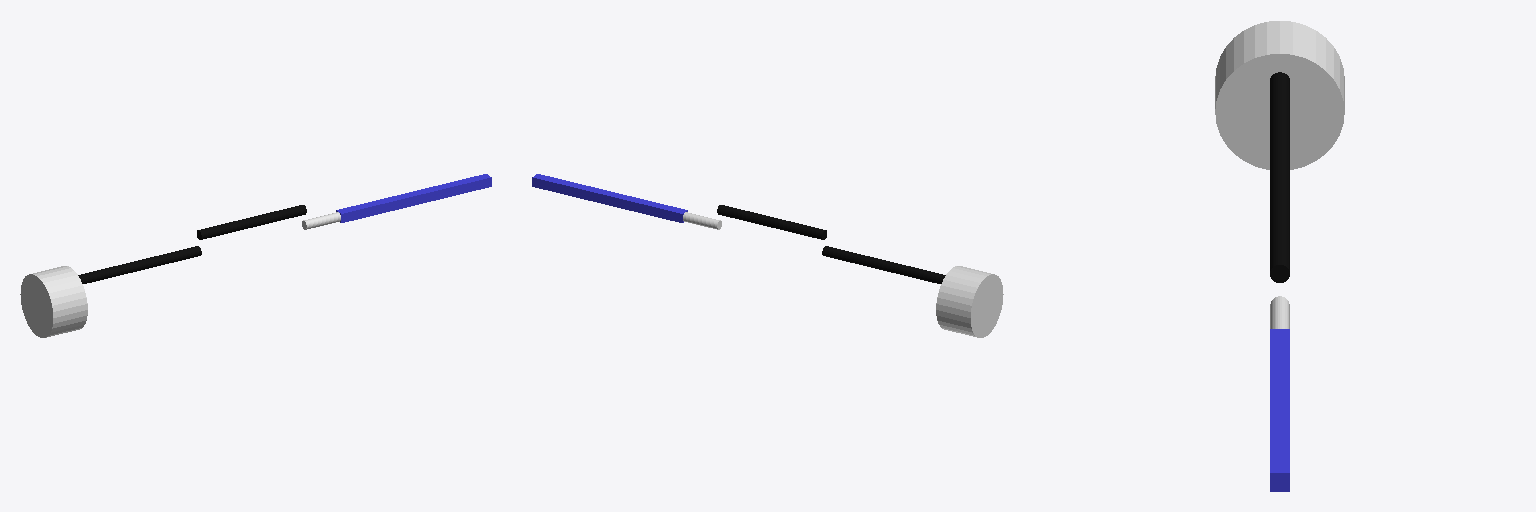
The robot description file, URDF, robot "test_setup1":
<?xml version="1.0" ?>
<!-- =================================================================================== -->
<!-- |    This document was autogenerated by xacro from test_setup4.urdf.xacro         | -->
<!-- |    EDITING THIS FILE BY HAND IS NOT RECOMMENDED                                 | -->
<!-- =================================================================================== -->
<robot name="test_setup1" xmlns:xacro="http://www.ros.org/wiki/xacro">
  <link name="base_link"/>
  <link name="end_effector_1"/>
  <link name="end_effector_2">
    <visual>
      <geometry>
        <box size="0.030 0.030 0.250"/>
      </geometry>
      <origin rpy="0 1.57079632679 0" xyz="-0.125 0 0"/>
      <material name="steel">
        <color rgba="0.3 0.3 0.9 1"/>
      </material>
    </visual>
    <collision>
      <geometry>
        <box size="0.035 0.035 0.255"/>
      </geometry>
      <origin rpy="0 1.57079632679 0" xyz="-0.125 0 0"/>
    </collision>
  </link>
  <link name="end_effector_3">
    <visual>
      <geometry>
        <box size="0.030 0.030 0.250"/>
      </geometry>
      <origin rpy="0 1.57079632679 0" xyz="-0.125 0 0"/>
      <material name="steel">
        <color rgba="0.3 0.3 0.9 1"/>
      </material>
    </visual>
    <collision>
      <geometry>
        <box size="0.035 0.035 0.255"/>
      </geometry>
      <origin rpy="0 1.57079632679 0" xyz="-0.125 0 0"/>
    </collision>
  </link>
  <link name="dummy"/>
  <link name="end_point"/>
  <joint name="base_link_joint" type="fixed">
    <parent link="base_link"/>
    <child link="dummy"/>
    <origin rpy="0 0 0" xyz="0 0 0.400"/>
  </joint>
  <create/>
  <link name="base">
    <visual>
      <geometry>
        <cylinder length="0.115" radius="0.095"/>
      </geometry>
      <origin rpy="0 1.57079632679 0" xyz="0.0575 0 0"/>
      <material name="aluminium">
        <color rgba="0.9 0.9 0.9 1"/>
      </material>
    </visual>
    <collision>
      <geometry>
        <cylinder length="0.0575" radius="0.1"/>
      </geometry>
      <origin rpy="0 1.57079632679 0" xyz="0.115 0 0"/>
    </collision>
  </link>
  <link name="arm">
    <visual>
      <geometry>
        <cylinder length="0.425" radius="0.015"/>
      </geometry>
      <origin rpy="0 1.57079632679 0" xyz="0.2125 0 0"/>
      <material name="carbon">
        <color rgba="0.1 0.1 0.1 1"/>
      </material>
    </visual>
    <collision>
      <geometry>
        <cylinder length="0.425" radius="0.02"/>
      </geometry>
      <origin rpy="0 1.57079632679 0" xyz="0.2125 0 0"/>
    </collision>
  </link>
  <link name="fore_arm">
    <visual>
      <geometry>
        <cylinder length="0.35" radius="0.015"/>
      </geometry>
      <origin rpy="0 1.57079632679 0" xyz="0.175 0 0"/>
      <material name="carbon"/>
    </visual>
    <collision>
      <geometry>
        <cylinder length="0.35" radius="0.02"/>
      </geometry>
      <origin rpy="0 1.57079632679 0" xyz="0.175 0 0"/>
    </collision>
  </link>
  <link name="effector">
    <visual>
      <geometry>
        <cylinder length="0.115" radius="0.014"/>
      </geometry>
      <origin rpy="0 1.57079632679 0" xyz="0.0575 0 0"/>
      <material name="aluminium"/>
    </visual>
    <collision>
      <geometry>
        <cylinder length="0.115" radius="0.019"/>
      </geometry>
      <origin rpy="0 1.57079632679 0" xyz="0.0575 0 0"/>
    </collision>
  </link>
  <link name="tool0"/>
  <joint name="mounting" type="fixed">
    <parent link="dummy"/>
    <child link="base"/>
  </joint>
  <joint name="shoulder" type="revolute">
    <parent link="base"/>
    <child link="arm"/>
    <origin rpy="0 0 0" xyz="0.115 0 0.05"/>
    <axis xyz="0 0 1"/>
    <limit effort="1000.0" lower="-2.35619449019" upper="2.35619449019" velocity="0.5"/>
  </joint>
  <joint name="elbow" type="revolute">
    <parent link="arm"/>
    <child link="fore_arm"/>
    <origin rpy="0 0 0" xyz="0.425 0 0.05"/>
    <axis xyz="0 0 1"/>
    <limit effort="1000.0" lower="-2.98" upper="2.98" velocity="0.5"/>
  </joint>
  <joint name="wrist" type="revolute">
    <parent link="fore_arm"/>
    <child link="effector"/>
    <origin rpy="0 0 0" xyz="0.35 0 -0.05"/>
    <axis xyz="0 0 1"/>
    <limit effort="1000.0" lower="-2.98" upper="2.98" velocity="0.5"/>
  </joint>
  <joint name="joint_tool" type="fixed">
    <parent link="effector"/>
    <child link="tool0"/>
    <origin rpy="0 0 0" xyz="0.115 0 0"/>
  </joint>
  <joint name="effector_joint_1" type="revolute">
    <parent link="tool0"/>
    <child link="end_effector_1"/>
    <origin rpy="0 0 0" xyz="0 0 0"/>
    <axis xyz="1 0 0"/>
    <limit effort="1000.0" lower="0" upper="6.28318530718" velocity="0.5"/>
  </joint>
  <joint name="effector_joint_2" type="revolute">
    <parent link="end_effector_1"/>
    <child link="end_effector_2"/>
    <origin rpy="0 3.14159265359 0" xyz="0 0 0"/>
    <axis xyz="0 1 0"/>
    <limit effort="1000.0" lower="-2.35619449019" upper="2.35619449019" velocity="0.5"/>
  </joint>
  <joint name="effector_joint_3" type="revolute">
    <parent link="end_effector_2"/>
    <child link="end_effector_3"/>
    <origin rpy="0 0 0" xyz="-0.250 0 0"/>
    <axis xyz="0 1 0"/>
    <limit effort="1000.0" lower="-2.35619449019" upper="2.35619449019" velocity="0.5"/>
  </joint>
  <joint name="end_joint" type="fixed">
    <parent link="end_effector_3"/>
    <child link="end_point"/>
    <origin rpy="0 3.14159265359 0" xyz="-0.250 0 0"/>
  </joint>
</robot>

--- Render facts (derived) ---
Views: 3 orthographic renders of the robot side by side, from view 1: azimuth 30°, elevation 25°; view 2: azimuth 150°, elevation 25°; view 3: azimuth 270°, elevation 25°.
Model test_setup1 with 11 links and 10 joints (6 revolute, 4 fixed), rooted at base_link, posed all joints at 0.
Visible links, largest first — view 1: base, arm, fore_arm, end_effector_3, end_effector_2; view 2: base, arm, fore_arm, end_effector_3, end_effector_2; view 3: base, fore_arm, arm, end_effector_3, end_effector_2, effector.
Boxes of the visible links, box(x1,y1,x2,y2) form: base: box(20, 266, 87, 337); arm: box(78, 246, 201, 283); fore_arm: box(197, 205, 306, 239); end_effector_3: box(412, 174, 491, 204); end_effector_2: box(336, 192, 415, 222); base: box(936, 266, 1003, 337); arm: box(822, 246, 945, 283); fore_arm: box(717, 205, 826, 239); end_effector_3: box(532, 174, 611, 204); end_effector_2: box(608, 192, 687, 222); base: box(1215, 21, 1344, 169); fore_arm: box(1270, 164, 1289, 282); arm: box(1270, 72, 1289, 169); end_effector_3: box(1270, 401, 1289, 491); end_effector_2: box(1270, 329, 1289, 400); effector: box(1270, 296, 1289, 328).
Bounding box of the posed robot: 1.5 × 0.19 × 0.21 m (x, y, z).
Geometry: primitives only (box / cylinder / sphere), no mesh files.